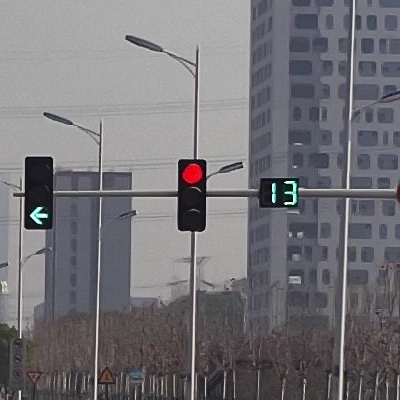green_arrow_left: (25, 158, 54, 230)
red_circle: (177, 159, 206, 232)
